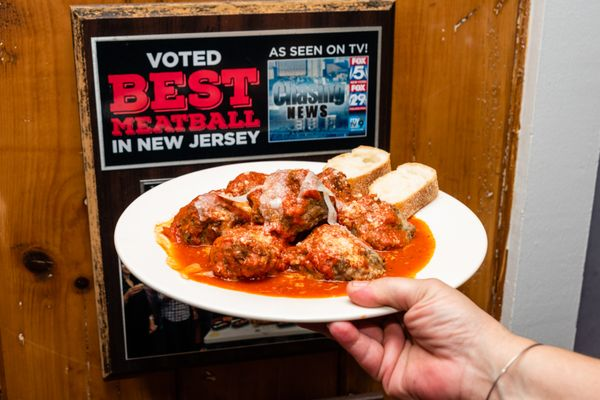soup: (154, 145, 439, 295)
